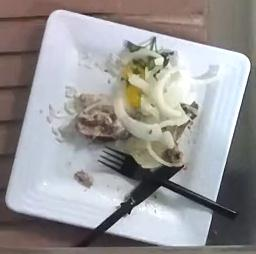onions: (91, 36, 194, 168)
